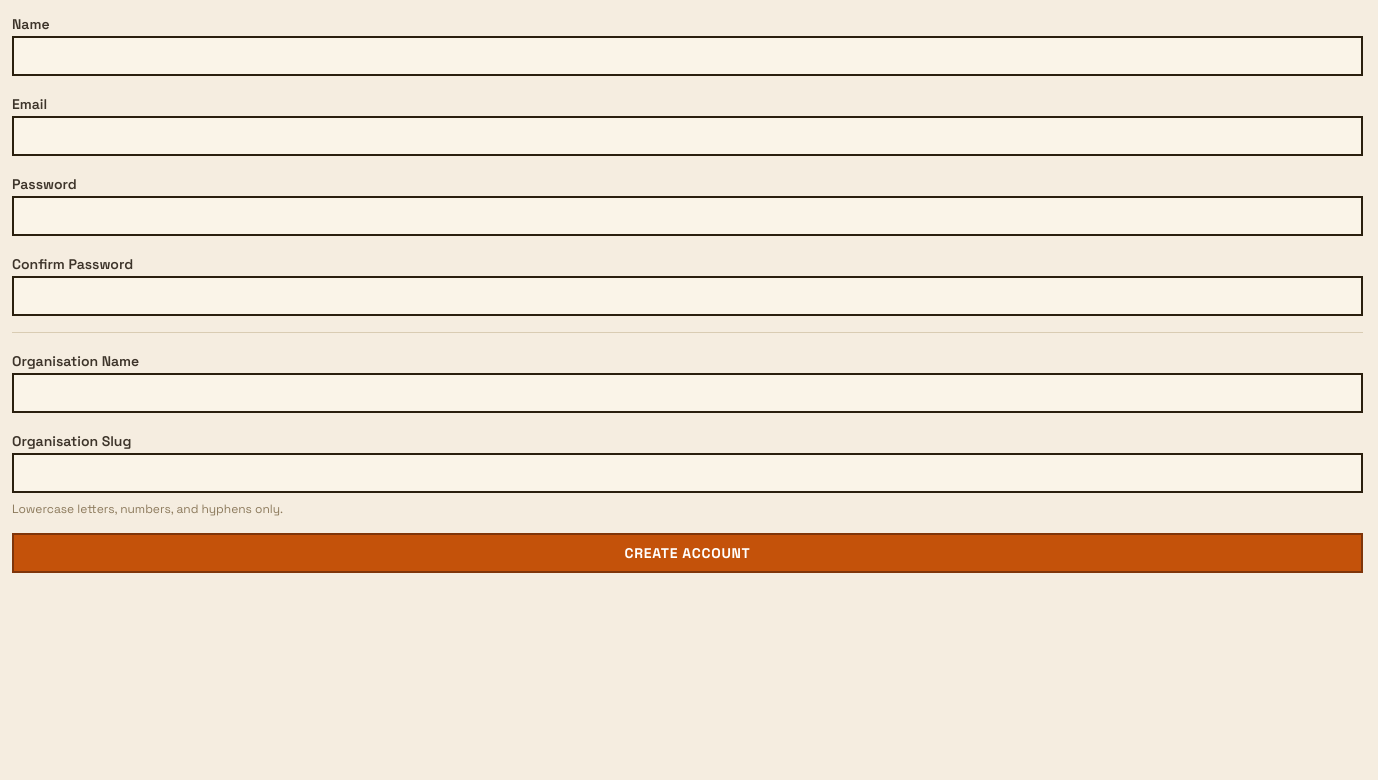
Test: SignUpForm › shows error when signUp fails
Type "Test User" into the field with id "name" at [688, 56], box [12,36,1363,76]
Type "test@example.com" into the field with id "email" at [688, 136], box [12,116,1363,156]
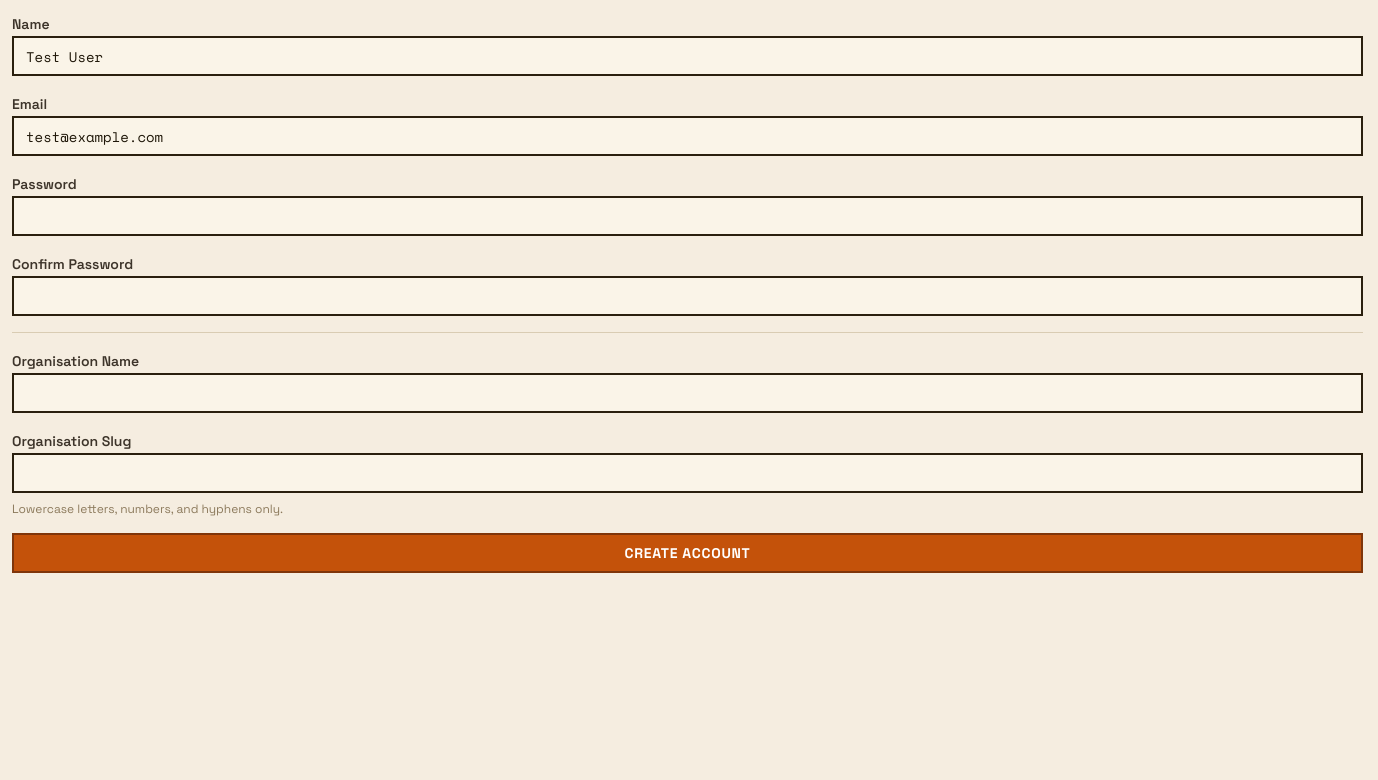
Type "password123" into the password field labelled "Password" at [688, 216], box [12,196,1363,236]
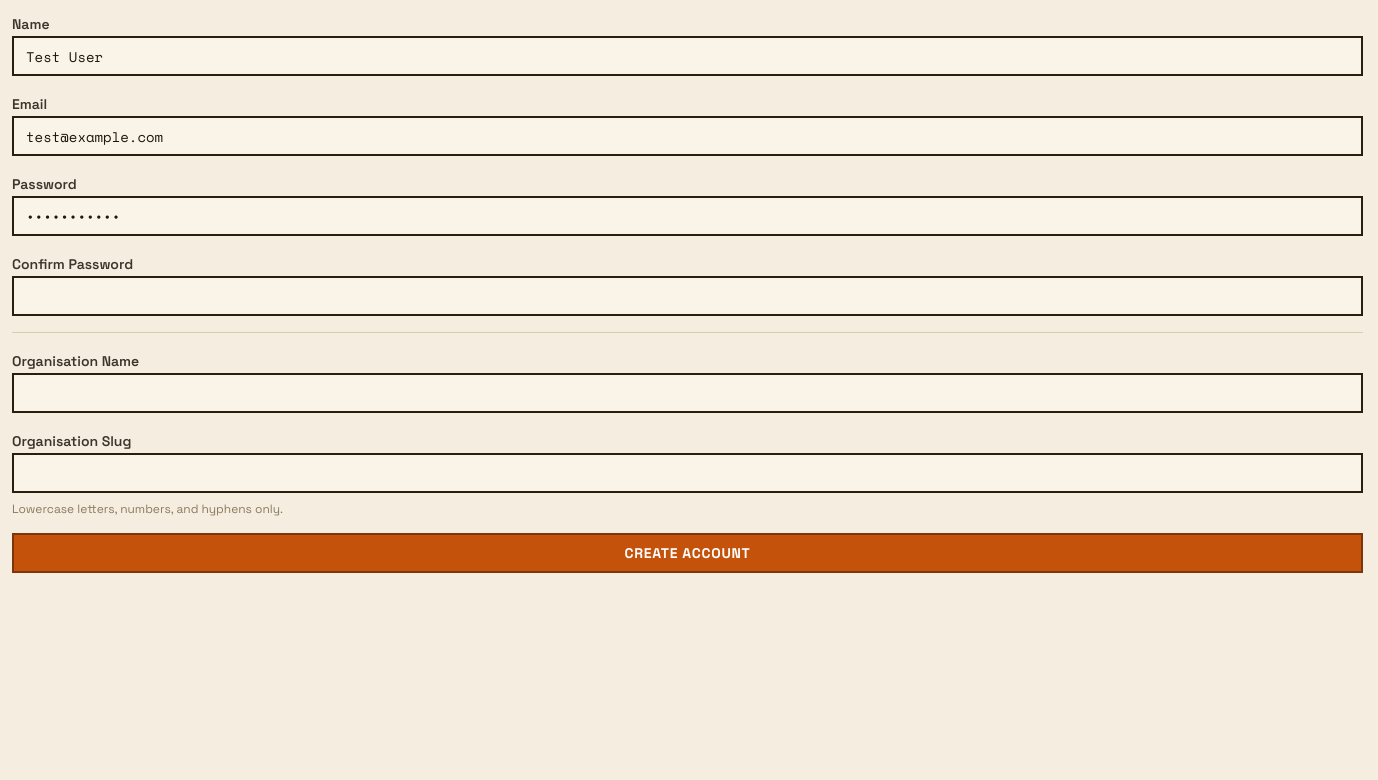
Type "password123" into the password field with id "confirm-password" at [688, 296], box [12,276,1363,316]
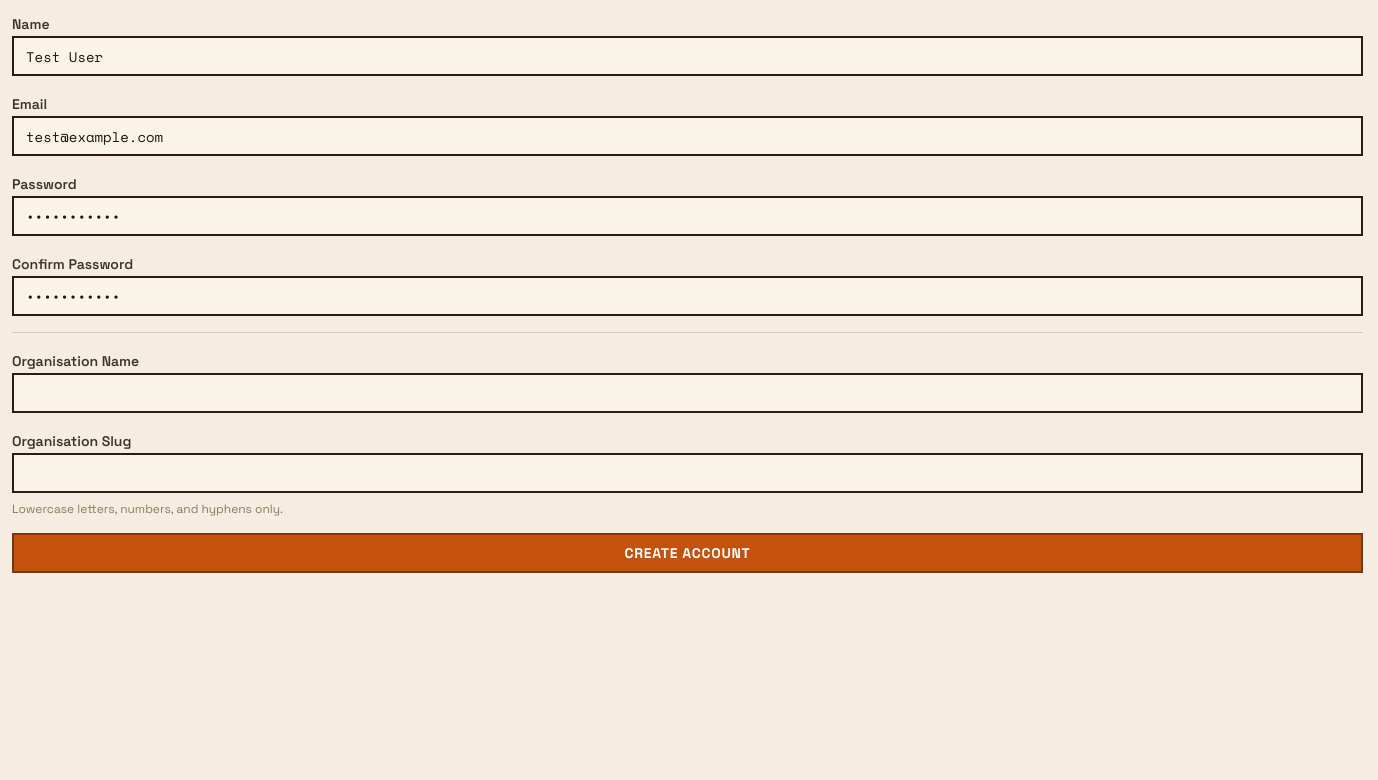
Type "My Org" into the field with id "org-name" at [688, 393], box [12,373,1363,413]
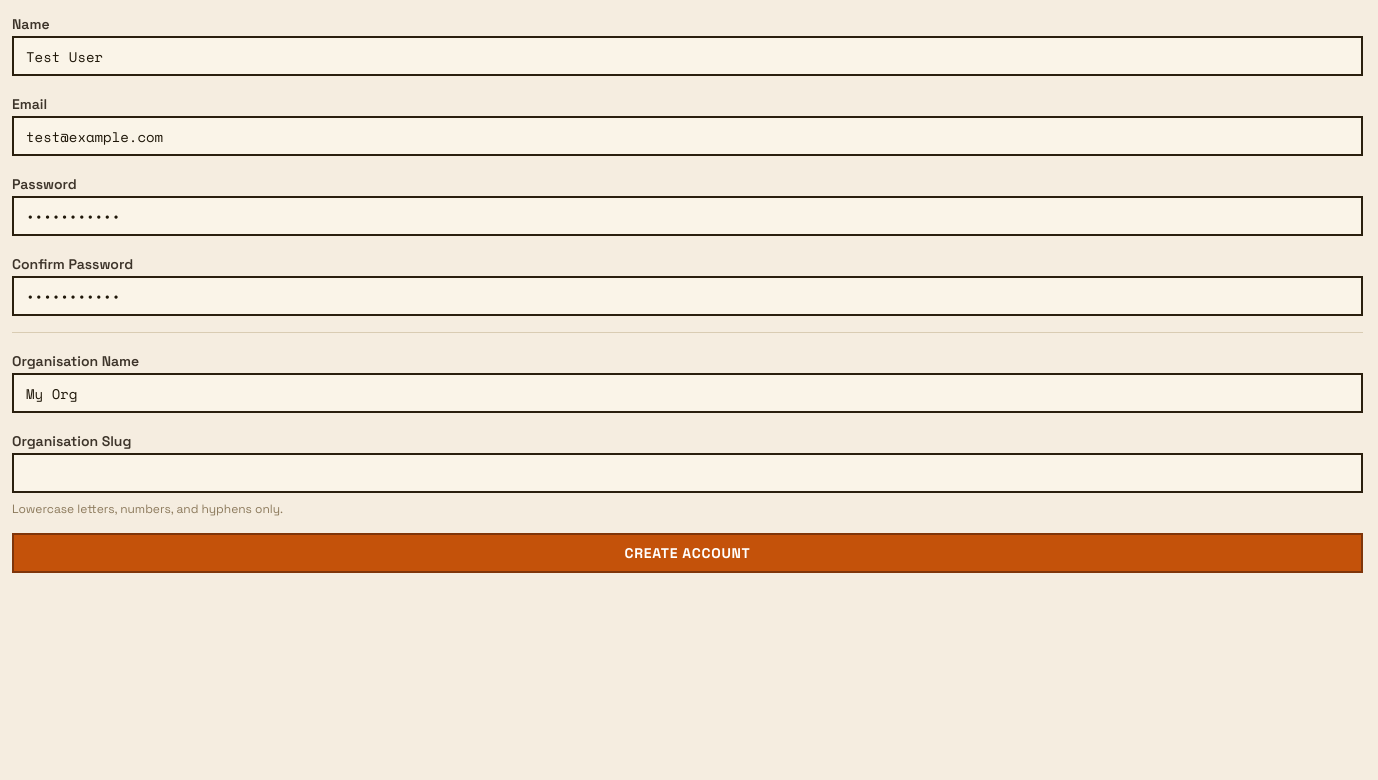
Type "my-org" into the field with id "org-slug" at [688, 473], box [12,453,1363,493]
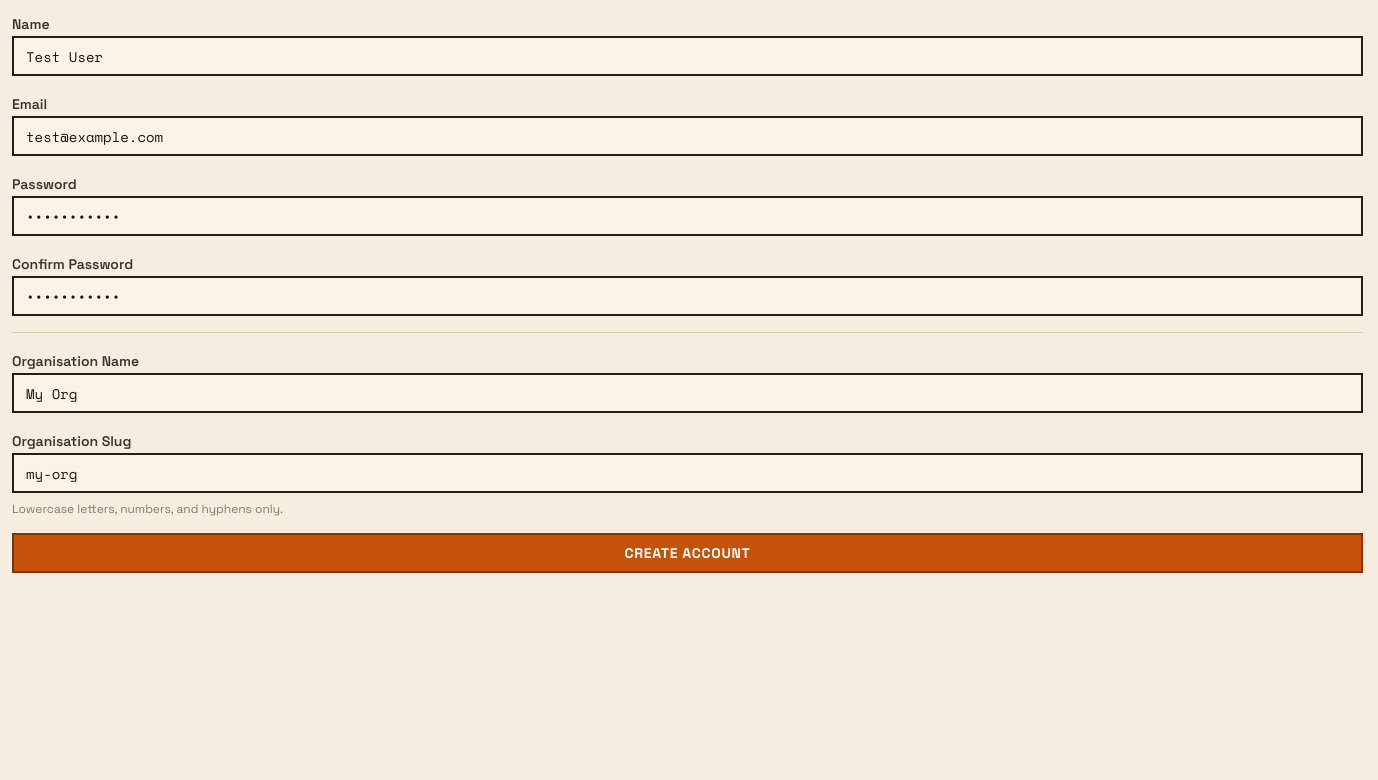
Submit the form
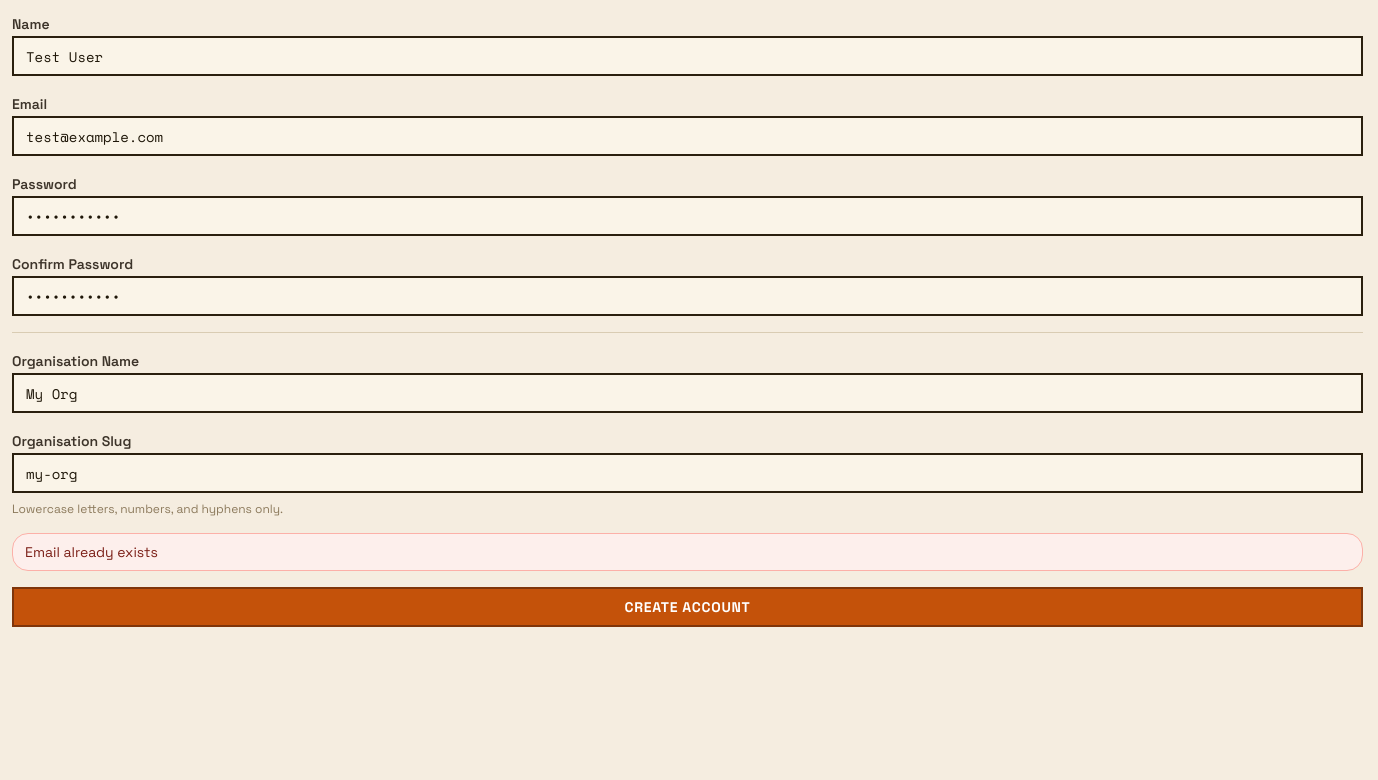
Now the text "Email already exists" is shown, box [12,533,1363,571]
